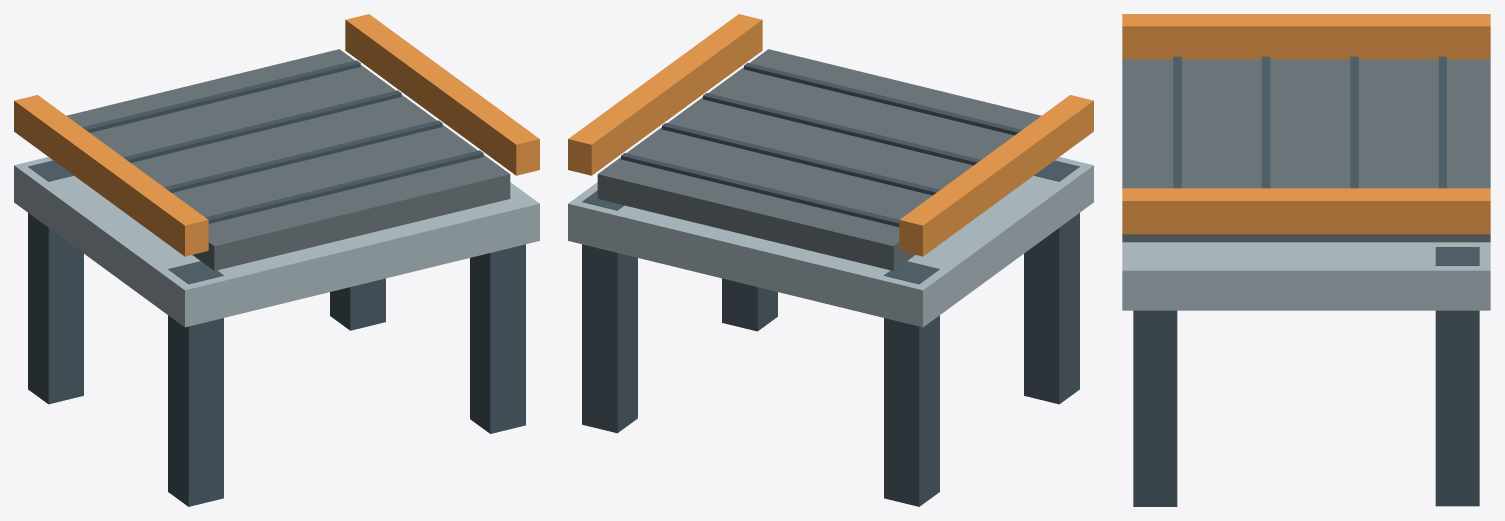
File: short-bridge-conveyor.glb
3 renders of one model, left to right at view 1: azimuth 30°, elevation 25°; view 2: azimuth 150°, elevation 25°; view 3: azimuth 270°, elevation 25°, orthographic. The views are drawn at different scales.
Parts seen in each view (by area): view 1: rubber, dark, steel, orange; view 2: rubber, dark, steel, orange; view 3: rubber, orange, steel, dark.
Part boxes in pixels (x1,y1,x2,y2): rubber: (66, 49, 510, 270); dark: (28, 60, 525, 506); steel: (14, 157, 539, 327); orange: (14, 14, 539, 256); rubber: (597, 49, 1041, 270); dark: (582, 63, 1079, 506); steel: (568, 157, 1093, 327); orange: (568, 14, 1093, 256); rubber: (1122, 59, 1490, 242); orange: (1122, 14, 1490, 234); steel: (1122, 242, 1490, 310); dark: (1133, 56, 1479, 506).
Size of the model in its own units: 1.2 by 0.93 by 1.
